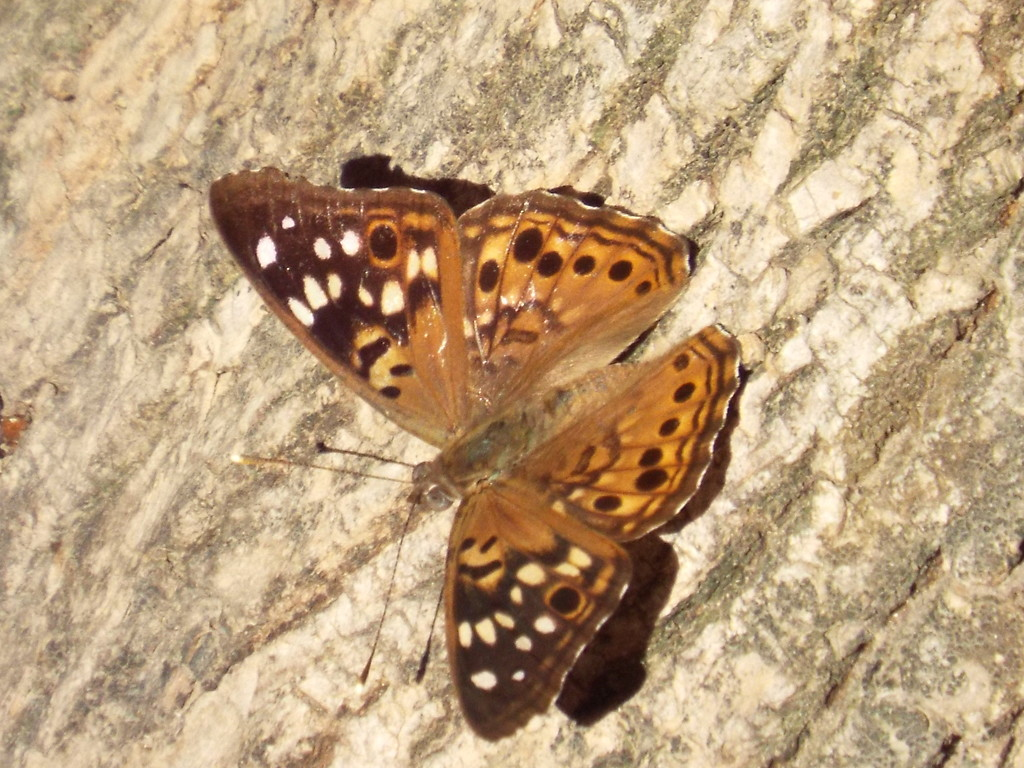Butterfly: (202, 147, 725, 730)
